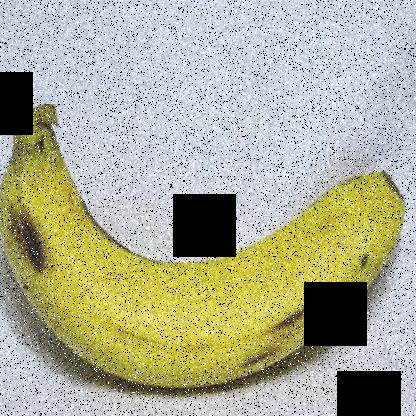freshripe: (0, 82, 416, 415)
